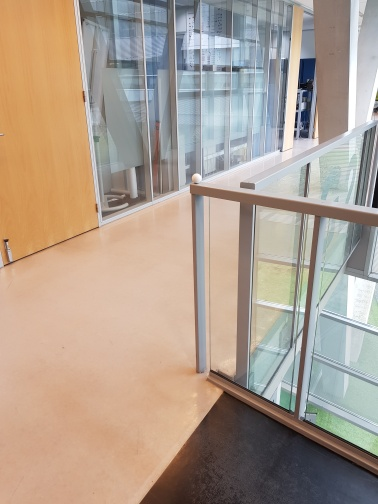egg: (190, 171, 203, 184)
